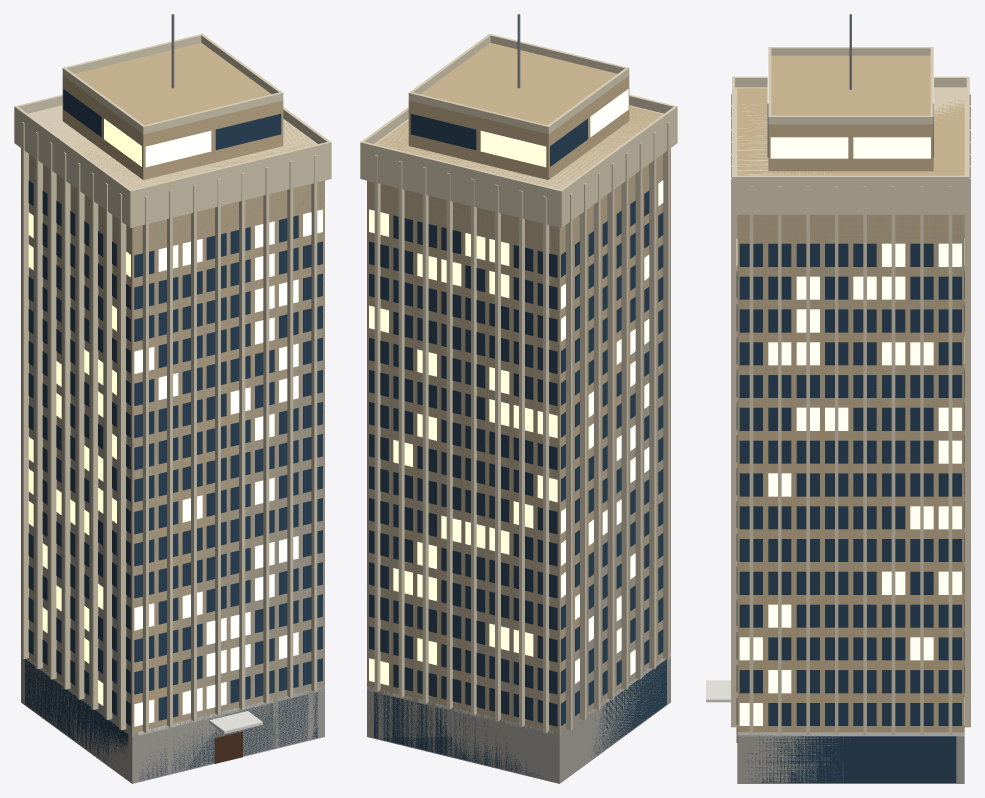
The model's file is BLD_Tower_C.fbx.
3 renders of one model, left to right at view 1: azimuth 30°, elevation 25°; view 2: azimuth 150°, elevation 25°; view 3: azimuth 270°, elevation 25°, orthographic. The views are drawn at different scales.
Visible parts, largest first — view 1: BLD_Tower_C__BODY, BLD_Tower_C__COL_Main; view 2: BLD_Tower_C__BODY, BLD_Tower_C__COL_Main; view 3: BLD_Tower_C__BODY, BLD_Tower_C__COL_Main.
Boxes of the visible parts, left/top/right/bottom form: BLD_Tower_C__BODY: left=14, top=14, right=331, bottom=783; BLD_Tower_C__COL_Main: left=21, top=149, right=324, bottom=783; BLD_Tower_C__BODY: left=360, top=14, right=677, bottom=783; BLD_Tower_C__COL_Main: left=367, top=153, right=670, bottom=783; BLD_Tower_C__BODY: left=706, top=14, right=970, bottom=782; BLD_Tower_C__COL_Main: left=737, top=214, right=964, bottom=783.
Bounding box in the file's own units: 23.2 × 77 × 25.6.
